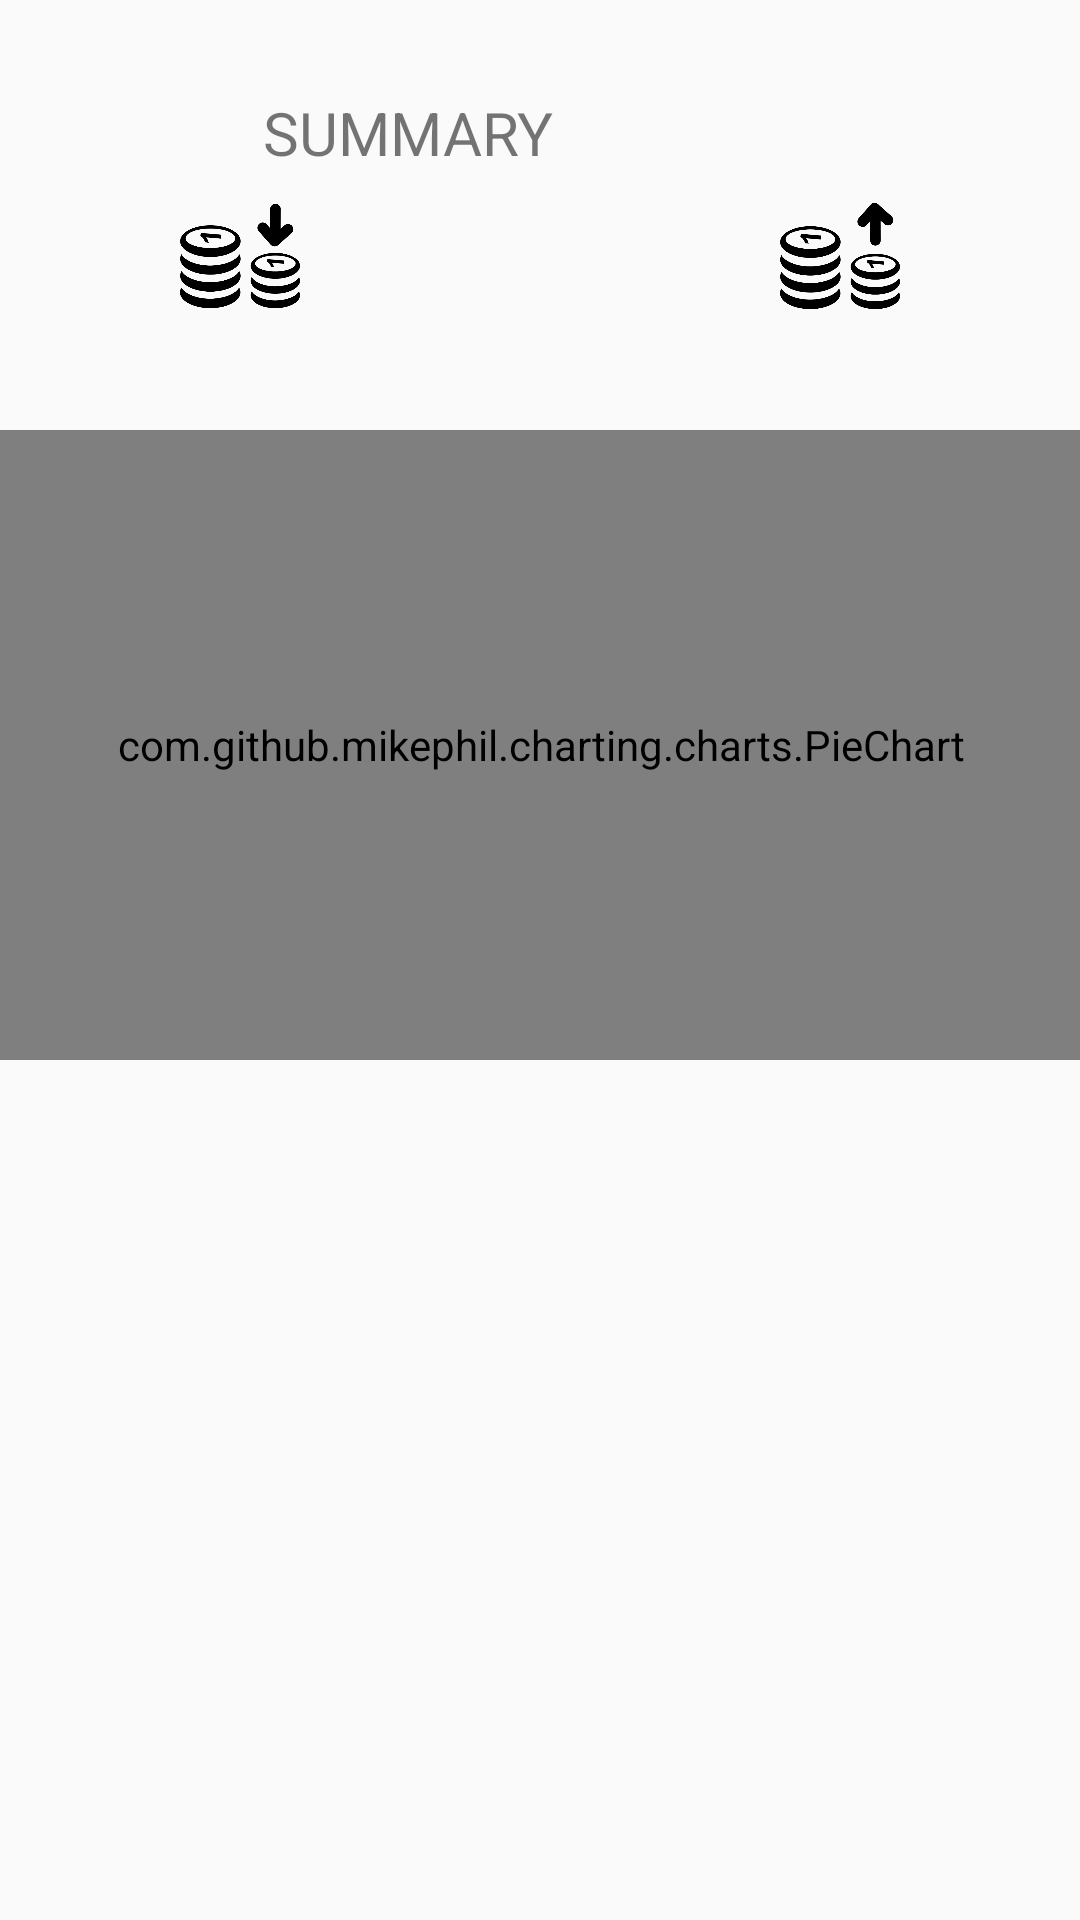

Icon bounding boxes for this 1080 x 1920 phone screenshot, format BBox(x1, y1, x2, y2):
coin stack decrease: BBox(180, 204, 300, 308)
coin stack increase: BBox(780, 203, 900, 309)
